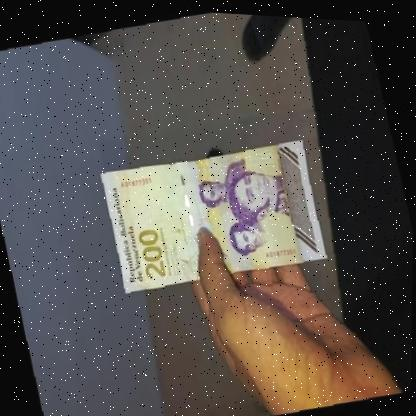two_hundred-front-vef: (97, 125, 329, 302)
